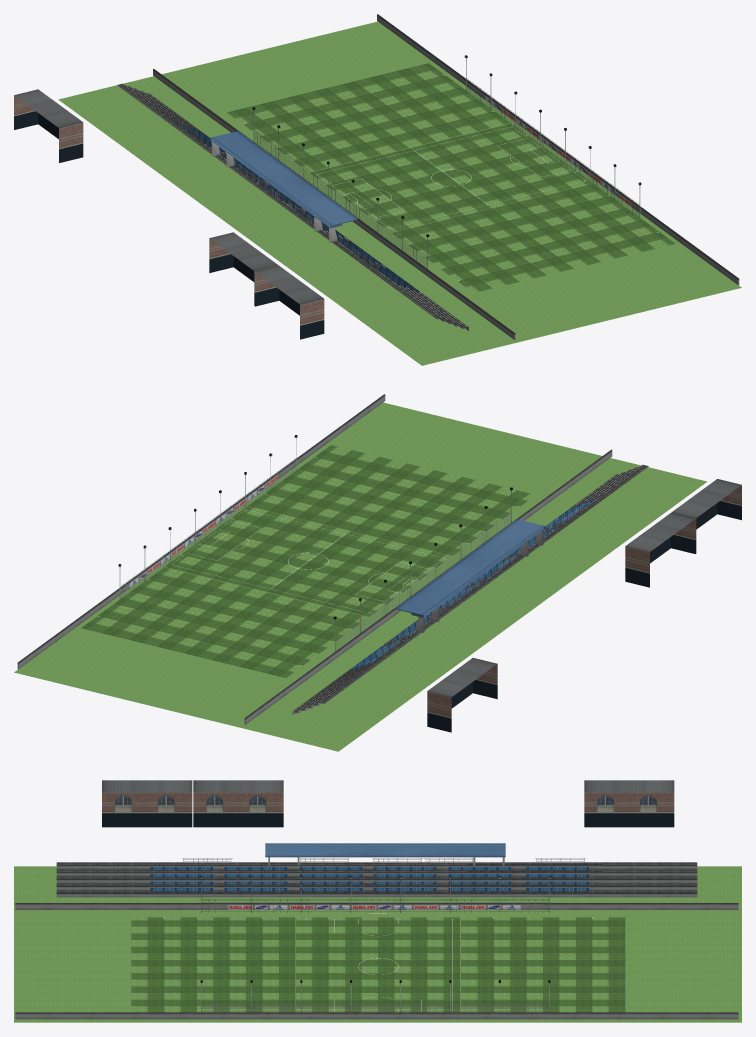
Rendered from football_train01.fbx.
3 renders of one model, top to bottom at view 1: azimuth 30°, elevation 25°; view 2: azimuth 150°, elevation 25°; view 3: azimuth 270°, elevation 25°, orthographic.
Visible parts, largest first — view 1: pPlane1, polySurface5966, grass1, grass2, grass, polySurface5970; view 2: pPlane1, polySurface5966, grass2, grass1, grass, polySurface5970; view 3: polySurface5966, pPlane1, grass1, grass2, grass, polySurface5970.
Part boxes in pixels (bbox=[...]): pPlane1: bbox=[58, 21, 741, 365]; polySurface5966: bbox=[14, 69, 515, 339]; grass1: bbox=[392, 184, 675, 292]; grass2: bbox=[227, 63, 510, 172]; grass: bbox=[310, 123, 592, 232]; polySurface5970: bbox=[377, 14, 739, 285]; pPlane1: bbox=[14, 402, 706, 751]; polySurface5966: bbox=[244, 449, 741, 732]; grass2: bbox=[81, 567, 368, 677]; grass1: bbox=[248, 445, 535, 555]; grass: bbox=[165, 506, 451, 616]; polySurface5970: bbox=[17, 394, 385, 669]; polySurface5966: bbox=[15, 780, 738, 912]; pPlane1: bbox=[14, 866, 741, 1022]; grass1: bbox=[131, 917, 295, 1012]; grass2: bbox=[461, 917, 625, 1012]; grass: bbox=[296, 917, 459, 1012]; polySurface5970: bbox=[15, 980, 738, 1019].
Bounding box in the file's own units: 232 × 26.8 × 368.
